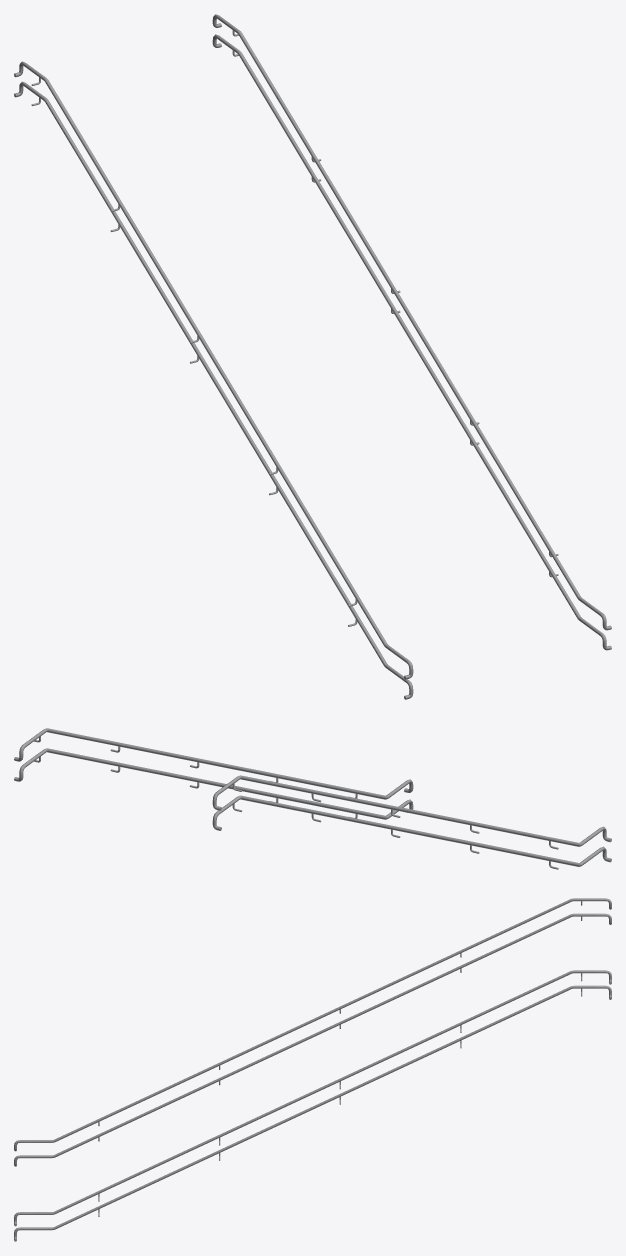
Rendered from gteki_ik_stair_n19_r166_t323_w1966_rails_wall.glb.
3 views of the same model, one above another, from view 1: azimuth 30°, elevation 25°; view 2: azimuth 150°, elevation 25°; view 3: azimuth 270°, elevation 25° (orthographic). The views are drawn at different scales.
Parts seen in each view (by area): view 1: VIS_handrails; view 2: VIS_handrails, VIS_rail_supports; view 3: VIS_handrails.
Boxes of the visible parts, box(x1,y1,x2,y2) form: VIS_handrails: box(14, 14, 611, 699); VIS_handrails: box(14, 728, 611, 866); VIS_rail_supports: box(34, 736, 558, 869); VIS_handrails: box(14, 898, 611, 1241).
Bounding box in the file's own units: 2.19 × 3.51 × 7.07.
Materials: 1 (1 with a texture image).
